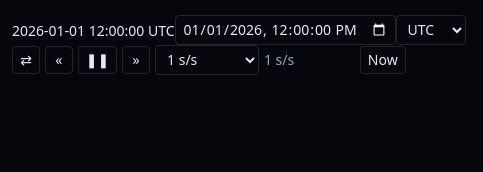
Scenario: time bar › VN-TIM-002: play, pause, reverse, slower, faster and the named rate
Later steps or results of the test are not shown.
Click the button named "Pause". click: click(98, 60)
box: [78,46,117,74]
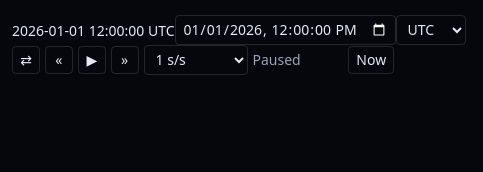
expect the button named "Play" is shown: met
Click the button named "Play". click: click(92, 60)
box: [78,46,106,74]
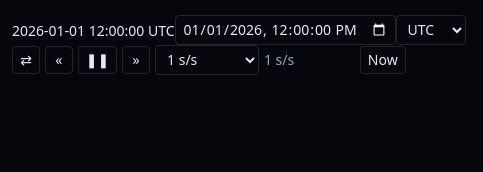
Click the button named "Faster". click: click(136, 60)
box: [122,46,150,74]
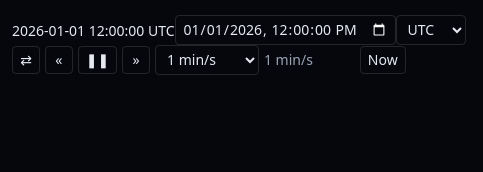
Click the button named "Reverse". click: click(26, 60)
box: [12,46,40,74]
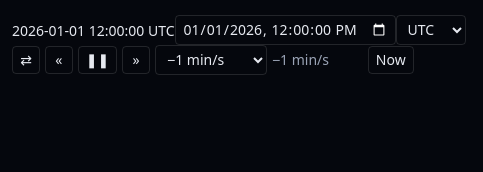
expect the footer named "Time" shows "−1 min/s": met, box [272,50,329,69]
